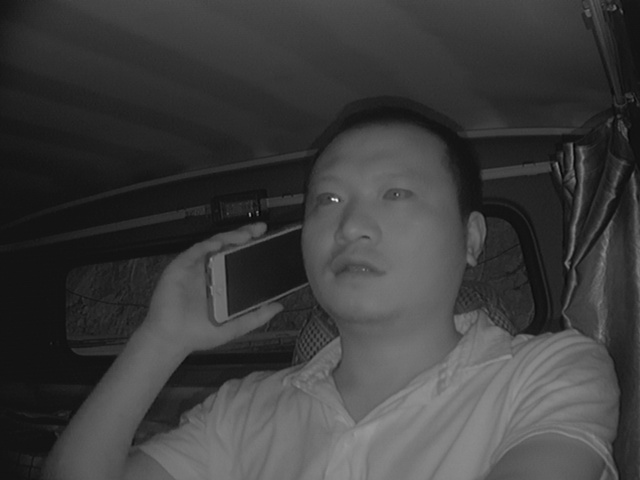hand: (147, 219, 283, 352)
